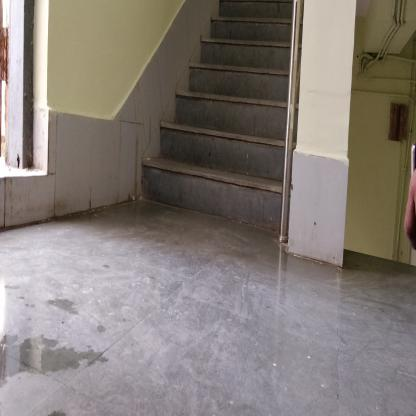stairs: (212, 13, 279, 235)
